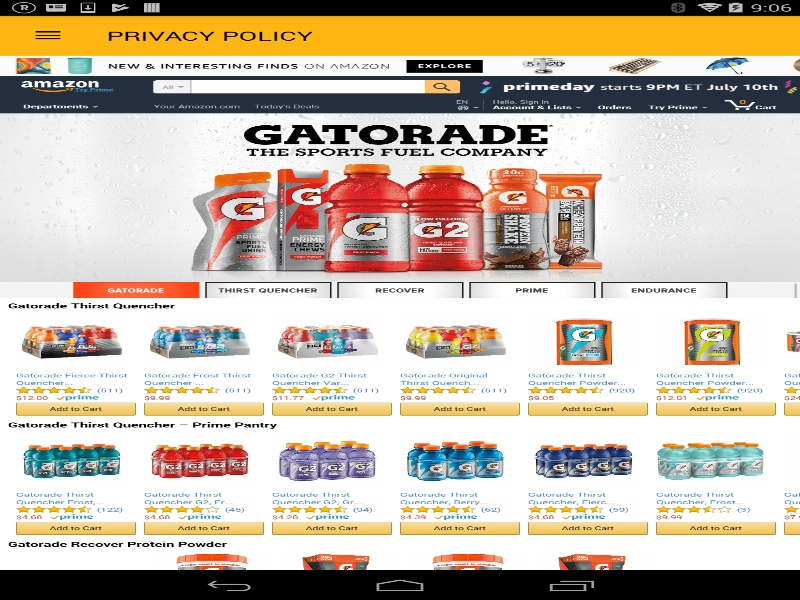Button: (10, 15, 85, 55), (154, 80, 334, 93), (16, 402, 134, 415), (144, 402, 262, 415), (272, 402, 390, 415), (400, 402, 518, 415), (528, 402, 646, 415), (656, 402, 774, 415), (16, 521, 134, 534), (144, 521, 262, 534), (272, 521, 390, 534), (400, 521, 518, 534), (528, 521, 646, 534), (656, 521, 774, 534), (424, 80, 459, 93)
Input: (190, 80, 424, 92)
